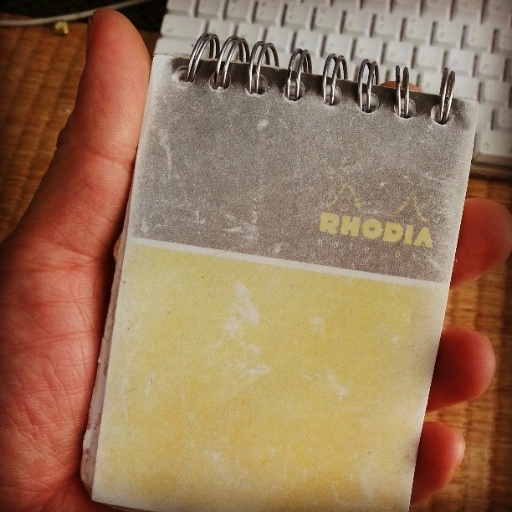hand: (0, 4, 510, 510)
